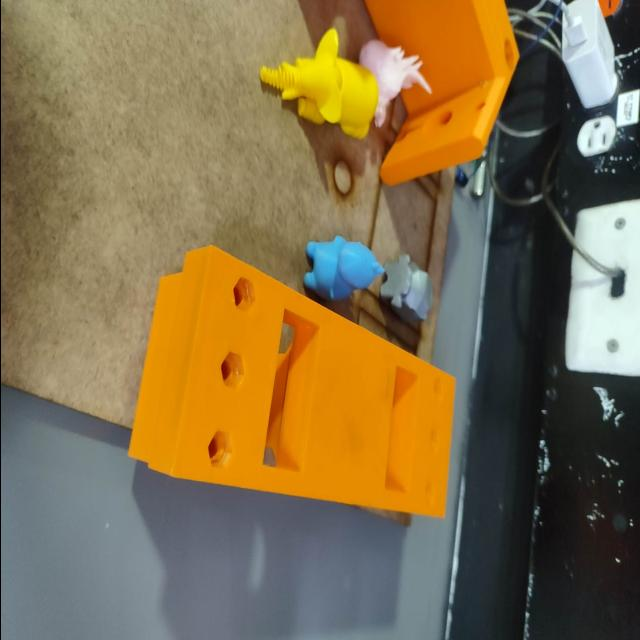DINO: (298, 214, 385, 312)
